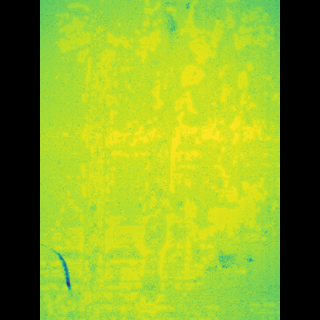Loch: (130, 0, 248, 320), (103, 18, 126, 320), (72, 3, 102, 233)
